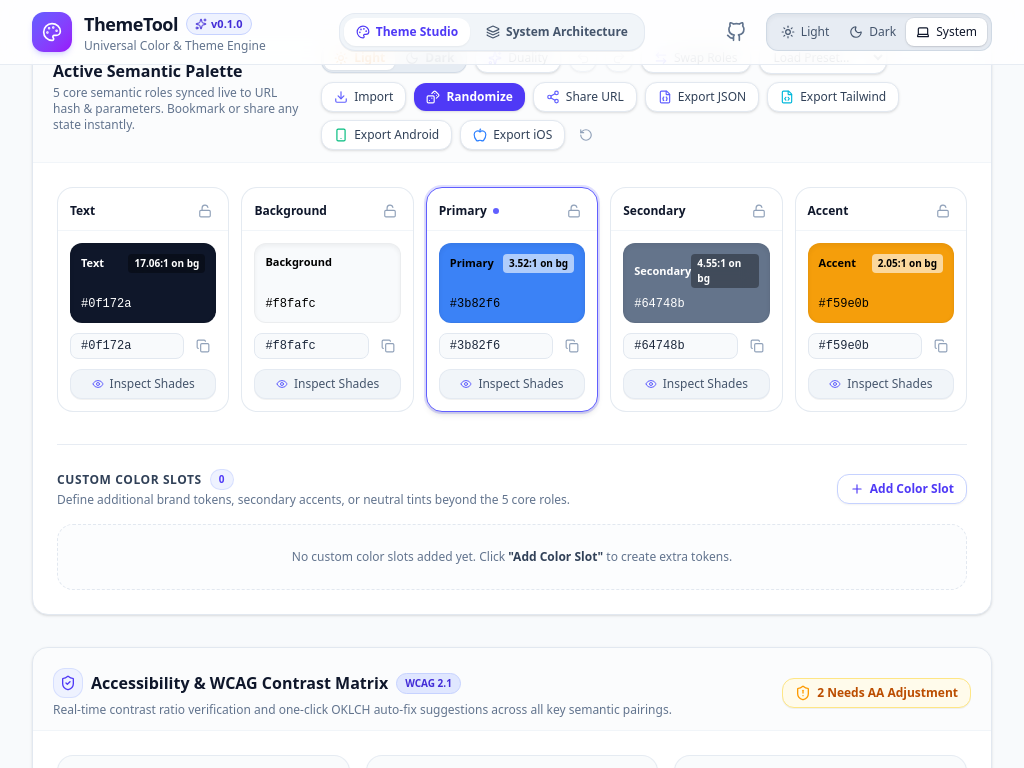
it: ThemeTool Shell & UI Integration › opens the Color Math & Shade Studio on demand with conversions and 11 shade swatches
(page scrolled)
Expected: the text "Color Math & Shade Studio" is not shown
Click Inspect Shades on the Primary card
Click the 1st button "Inspect Shades" at (143, 384), box [70,369,216,399]
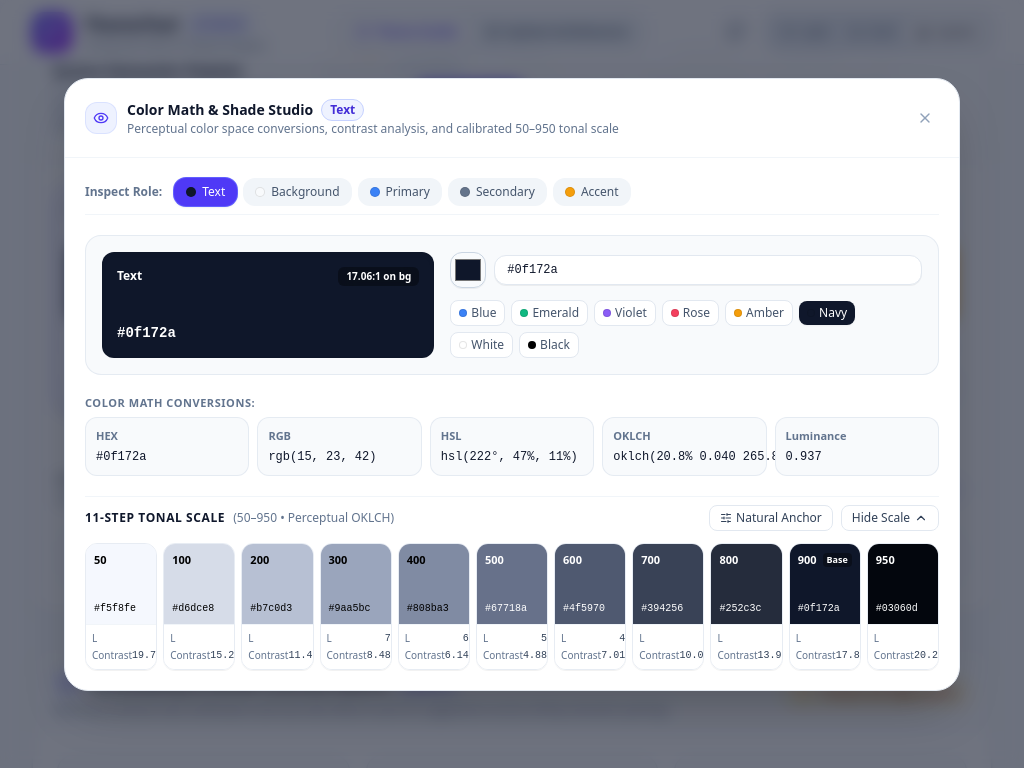
Result: the text "Color Math & Shade Studio" is shown at [127,100,313,120]
Result: the text "HEX" is shown at [96,428,118,444]
Result: the text "RGB" is shown at [268,428,291,444]
